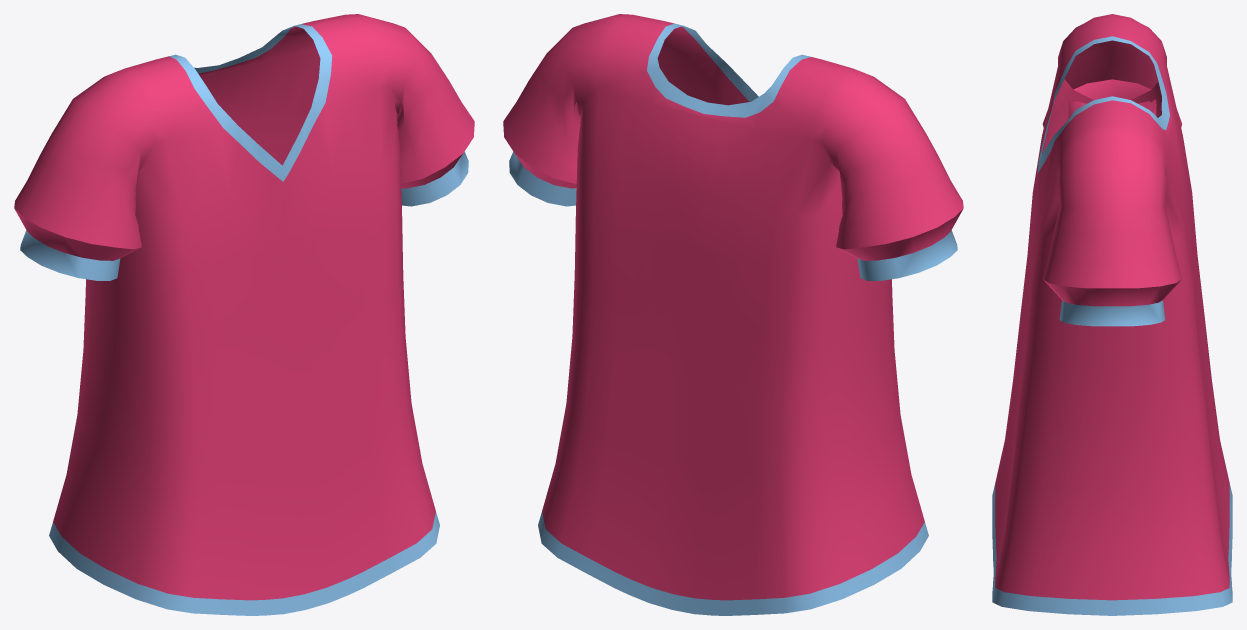
Rendered from womans_clothes.gltf.
3 views of the same model, side by side, from view 1: azimuth 30°, elevation 25°; view 2: azimuth 150°, elevation 25°; view 3: azimuth 270°, elevation 25° (orthographic). The views are drawn at different scales.
Visible parts, largest first — view 1: Circle.1804; view 2: Circle.1804; view 3: Circle.1804.
Part boxes in pixels (left/top/right/bottom): Circle.1804: left=14, top=14, right=474, bottom=615; Circle.1804: left=503, top=14, right=963, bottom=615; Circle.1804: left=992, top=14, right=1232, bottom=615.
Size of the model in its own units: 1.79 by 2.02 by 0.8695.
Materials: 1 (1 with a texture image).
